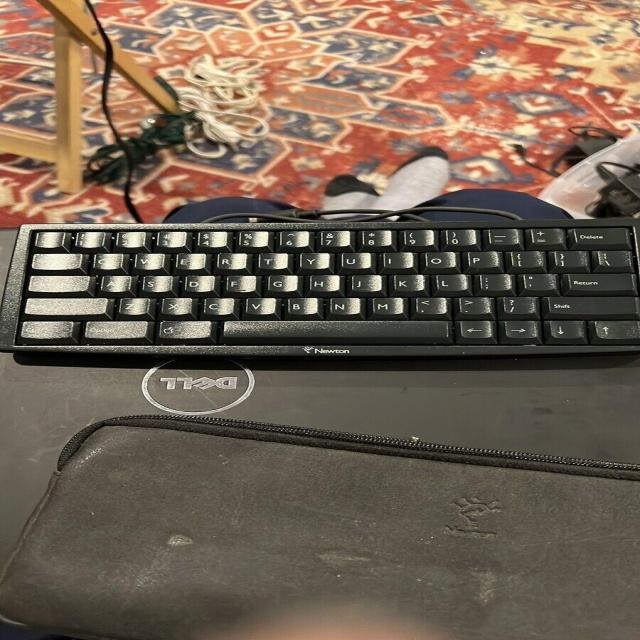keyboard: (0, 220, 640, 352)
